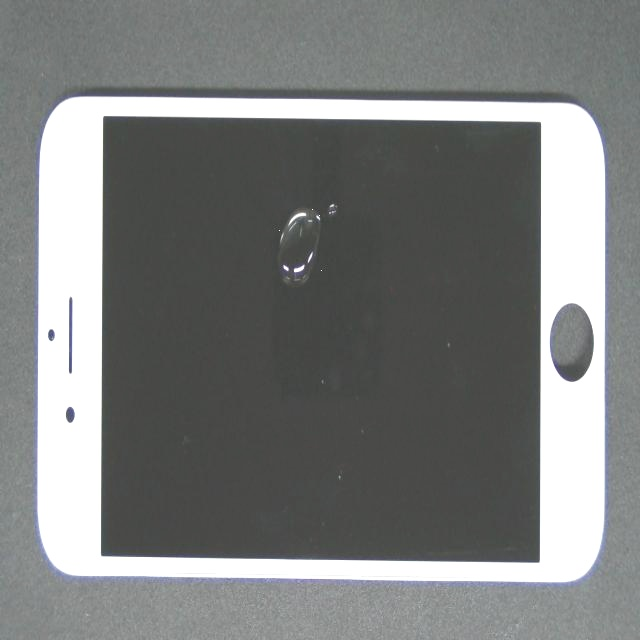oil: (124, 120, 419, 406)
